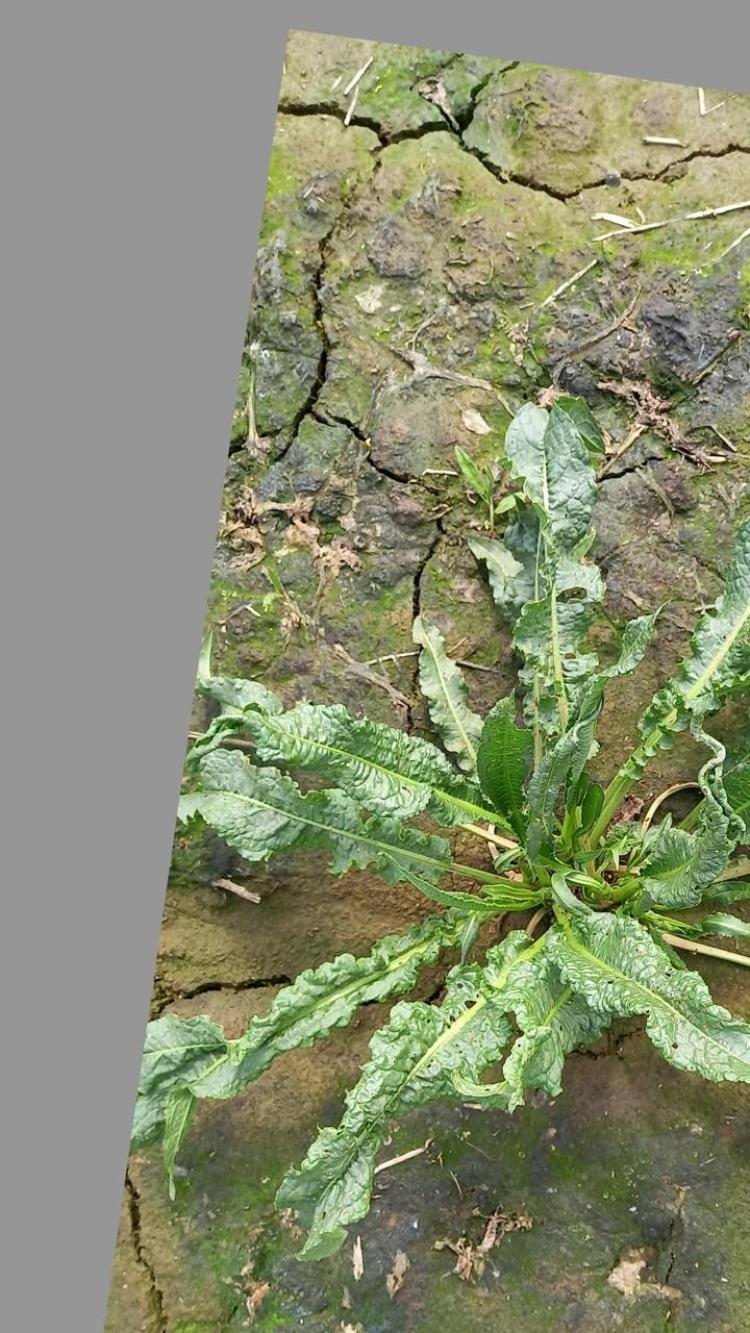zhavel: (127, 392, 750, 1258)
